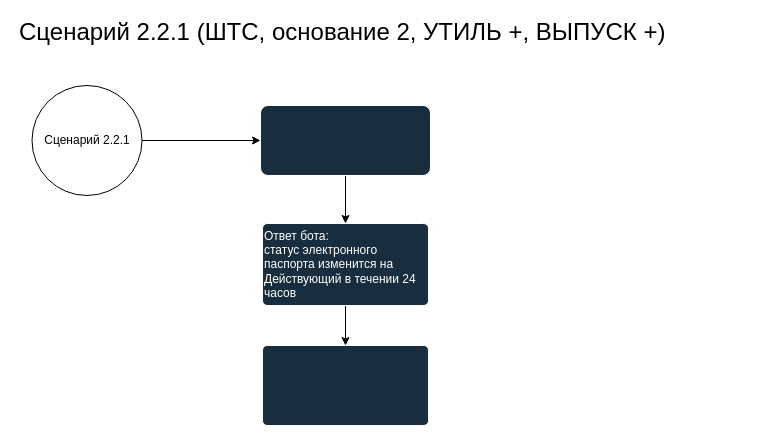
Image size: 778x443. Some labels were removed from this diagram. The shapes that lost their labels are listed below. From the top down, each one's box as (x1, y1, x2, y2) in pixels, then its label:
(260, 104, 430, 176): Основание 02, УТИЛЬ + ВЫПУСК +
(262, 344, 428, 426): Действие бота: инициация внесения сведений об УС
